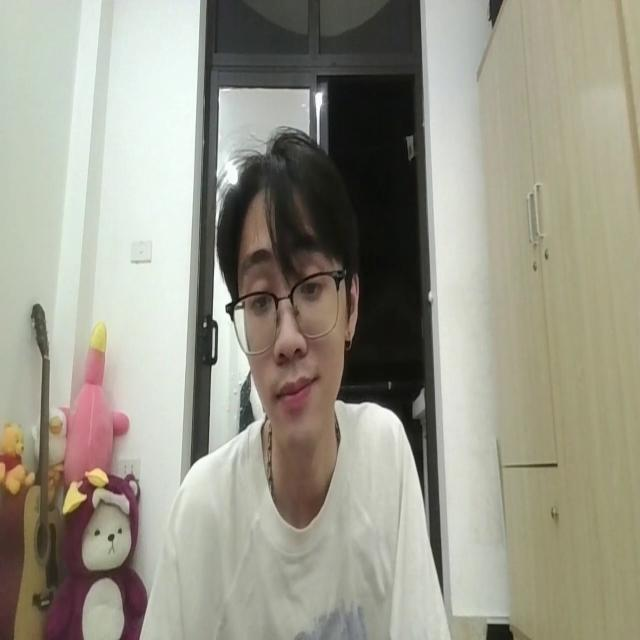student: (137, 126, 446, 640)
